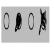correct: (16, 10, 22, 32)
not correct: (38, 8, 46, 37)
